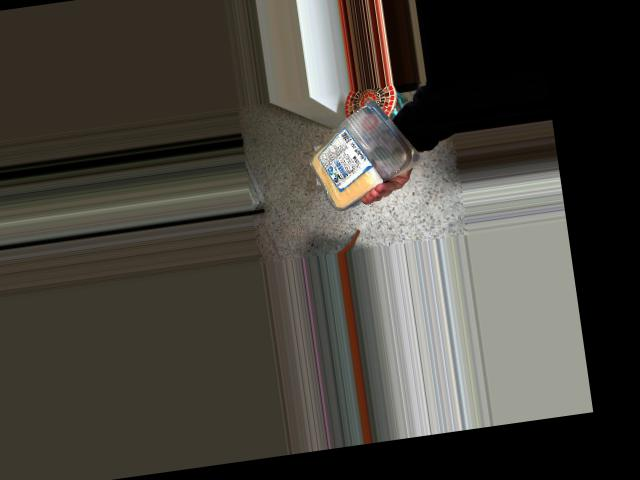cheese: (298, 92, 399, 207)
